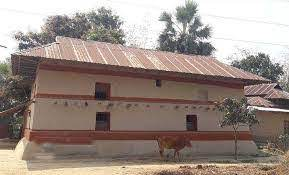Mud House: (10, 32, 270, 160)
